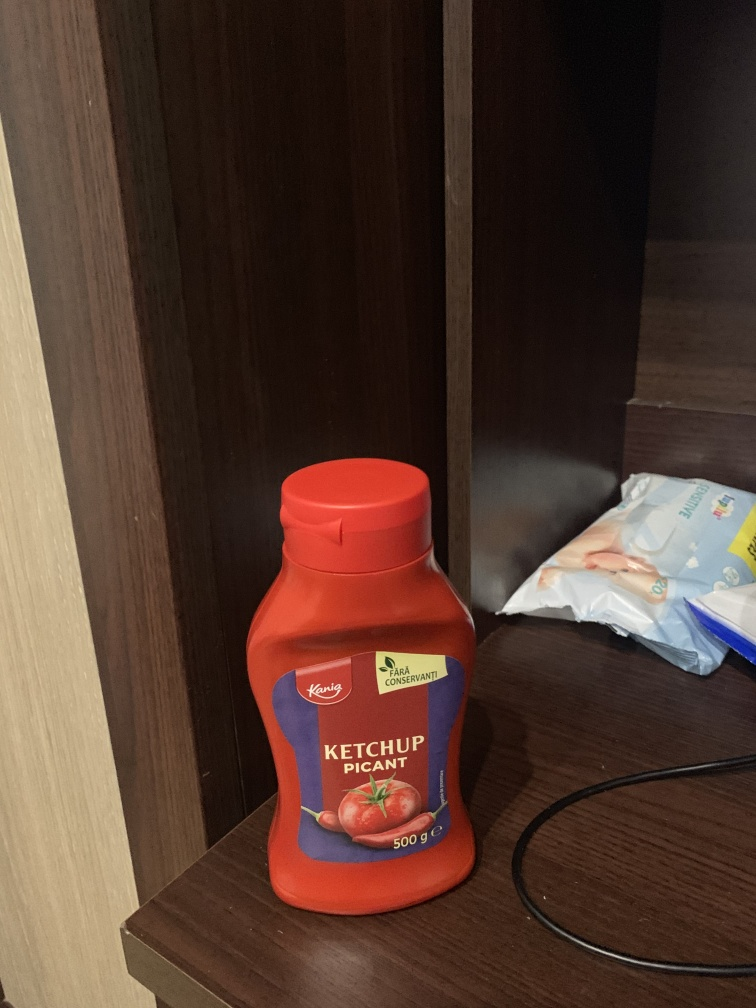ketchup: (234, 446, 495, 919)
